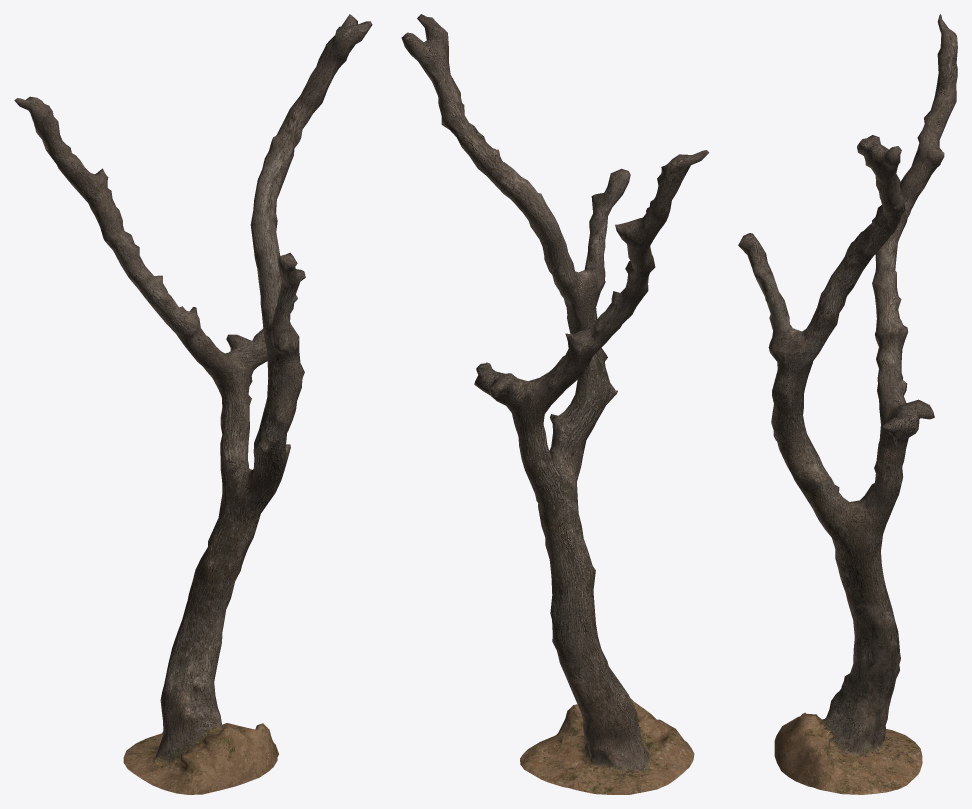
Rendered from pruned_a.glb.
3 renders of one model, left to right at view 1: azimuth 30°, elevation 25°; view 2: azimuth 150°, elevation 25°; view 3: azimuth 270°, elevation 25°, orthographic. The views are drawn at different scales.
Visible parts, largest first — view 1: prunedA_S_Pruned_Tree_vcwhcexqx_lod3_Var1_LOD0; view 2: prunedA_S_Pruned_Tree_vcwhcexqx_lod3_Var1_LOD0; view 3: prunedA_S_Pruned_Tree_vcwhcexqx_lod3_Var1_LOD0.
Part boxes in pixels (<box>): prunedA_S_Pruned_Tree_vcwhcexqx_lod3_Var1_LOD0: <box>14,14,372,794</box>; prunedA_S_Pruned_Tree_vcwhcexqx_lod3_Var1_LOD0: <box>401,14,709,794</box>; prunedA_S_Pruned_Tree_vcwhcexqx_lod3_Var1_LOD0: <box>738,14,957,794</box>.
Bounding box in the file's own units: 5.17 × 10.61 × 3.01.
1 material, 1 textured.
